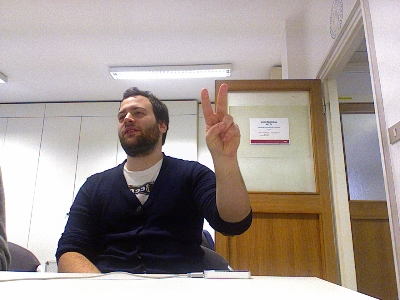剪刀: (200, 82, 241, 156)
